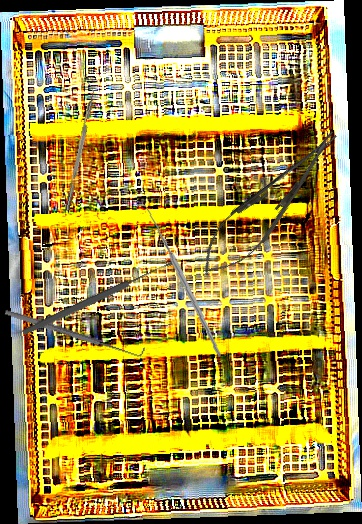Chopper: (58, 81, 99, 212)
Hook Surgical: (126, 203, 232, 358), (2, 302, 147, 362)
Needle Holder: (188, 118, 352, 290)
Surgical Spoon: (20, 257, 177, 338)
